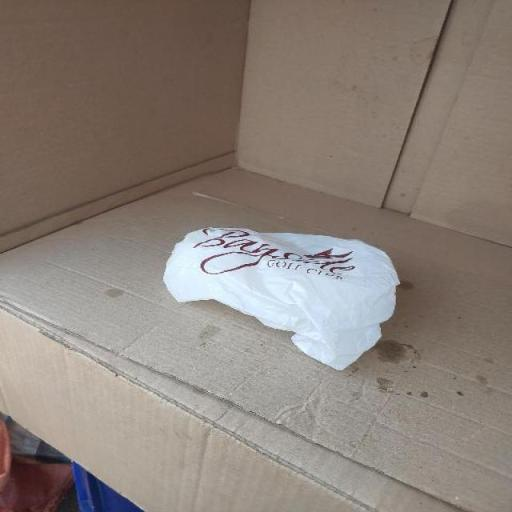plastic-bag: (160, 228, 404, 382)
